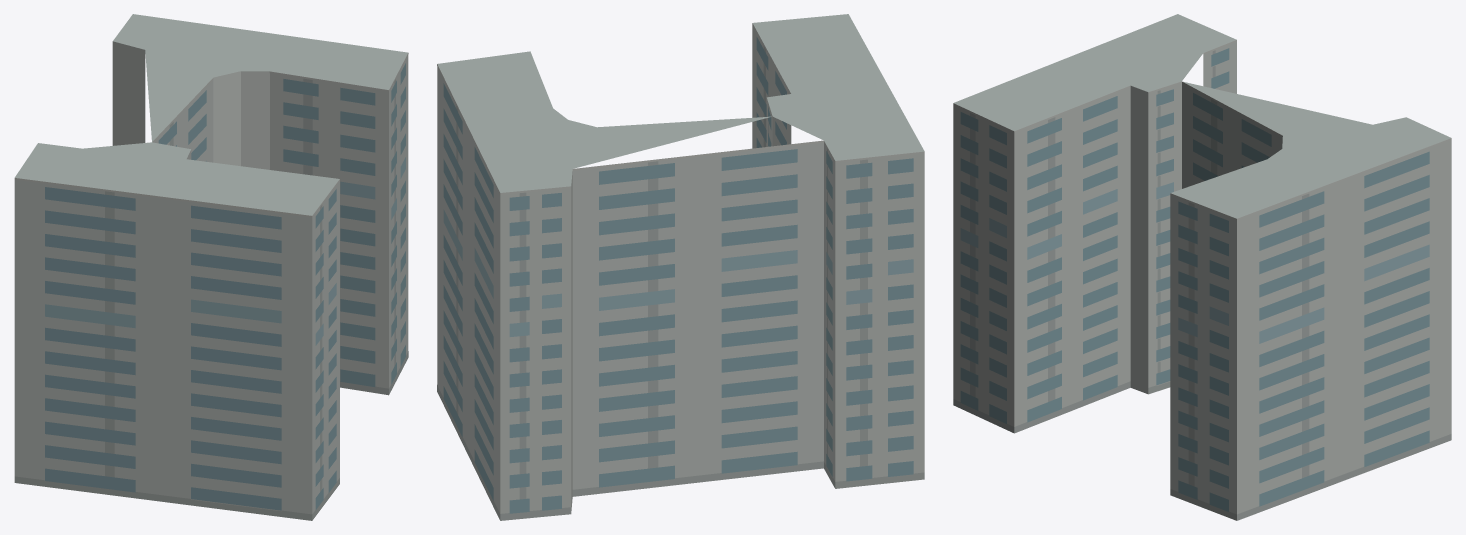
File: residential-7e5df0e1-7108-4da2-a6f3-9b68485f6a95.glb
The picture shows the model from 3 angles, left to right: view 1: azimuth 30°, elevation 25°; view 2: azimuth 150°, elevation 25°; view 3: azimuth 270°, elevation 25°; orthographic projection. The views are drawn at different scales.
Visible parts, largest first — view 1: residential-7e5df0e1-7108-4da2-a6f3-9b68485f6a95.tmp; view 2: residential-7e5df0e1-7108-4da2-a6f3-9b68485f6a95.tmp; view 3: residential-7e5df0e1-7108-4da2-a6f3-9b68485f6a95.tmp.
Boxes of the visible parts, box(x1,y1,x2,y2) form: residential-7e5df0e1-7108-4da2-a6f3-9b68485f6a95.tmp: box(14, 14, 408, 520); residential-7e5df0e1-7108-4da2-a6f3-9b68485f6a95.tmp: box(437, 14, 924, 520); residential-7e5df0e1-7108-4da2-a6f3-9b68485f6a95.tmp: box(953, 14, 1451, 520).
Bounding box in the file's own units: 58.15 × 40 × 59.82.
